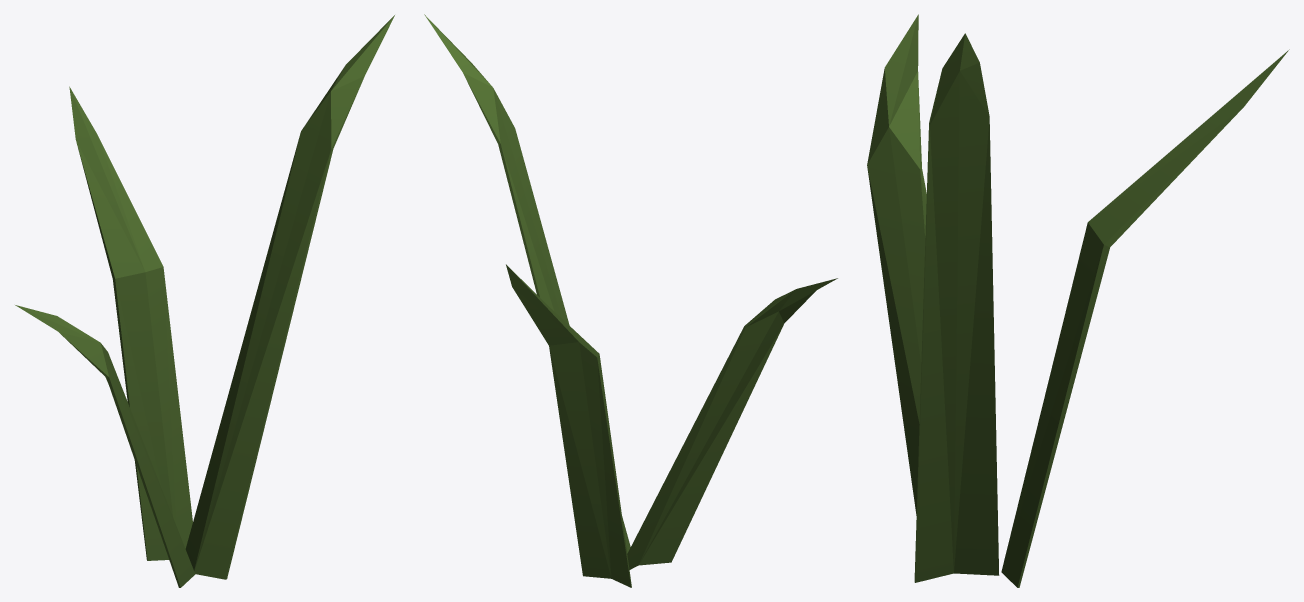
Rendered from Env_Grass_Patch_Green_02.obj.
3 renders of one model, left to right at view 1: azimuth 30°, elevation 25°; view 2: azimuth 150°, elevation 25°; view 3: azimuth 270°, elevation 25°, orthographic. The views are drawn at different scales.
Parts seen in each view (by area): view 1: Env_Grass_Patch_Green_02; view 2: Env_Grass_Patch_Green_02; view 3: Env_Grass_Patch_Green_02.
Part boxes in pixels (left/top/right/bottom): Env_Grass_Patch_Green_02: left=15, top=15, right=394, bottom=587; Env_Grass_Patch_Green_02: left=424, top=14, right=837, bottom=587; Env_Grass_Patch_Green_02: left=867, top=14, right=1289, bottom=587.
Bounding box in the file's own units: 0.2057 × 0.2491 × 0.1421.
Materials: 1 (1 with a texture image).
